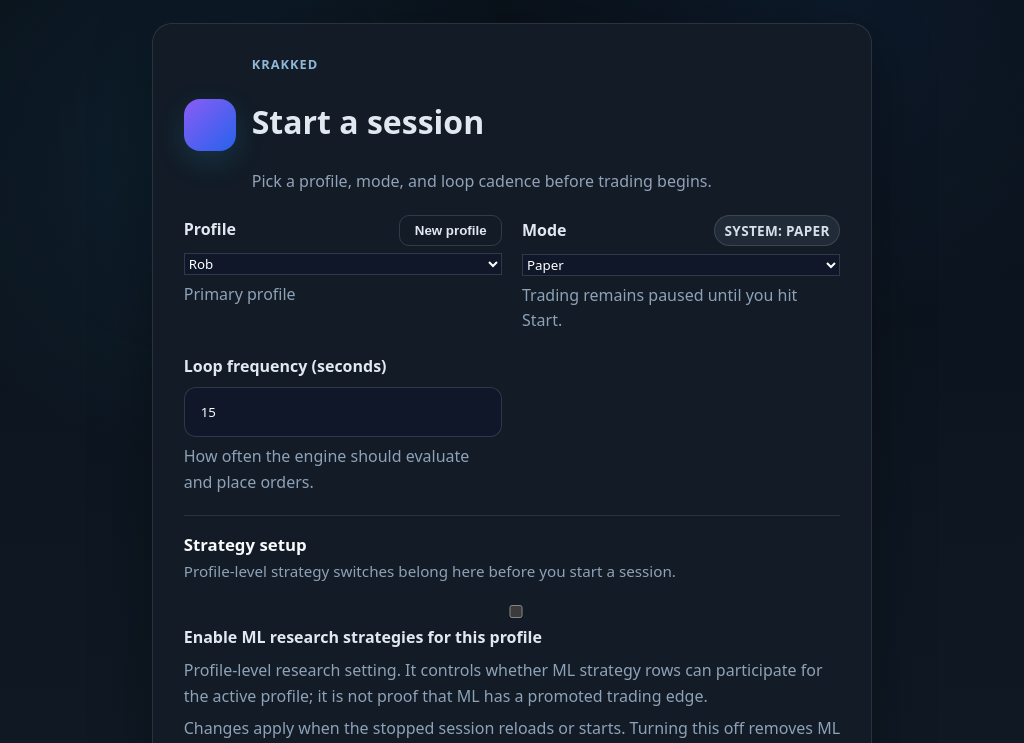
Scenario: cockpit operator paths › keeps live start disabled while readiness is unavailable
Check: the heading "Start a session" is shown, box [252,100,484,143]
Select "Live" in the dropdown labelled "Mode". click: (681, 264)
box: [522,254,840,276]
(page scrolled)
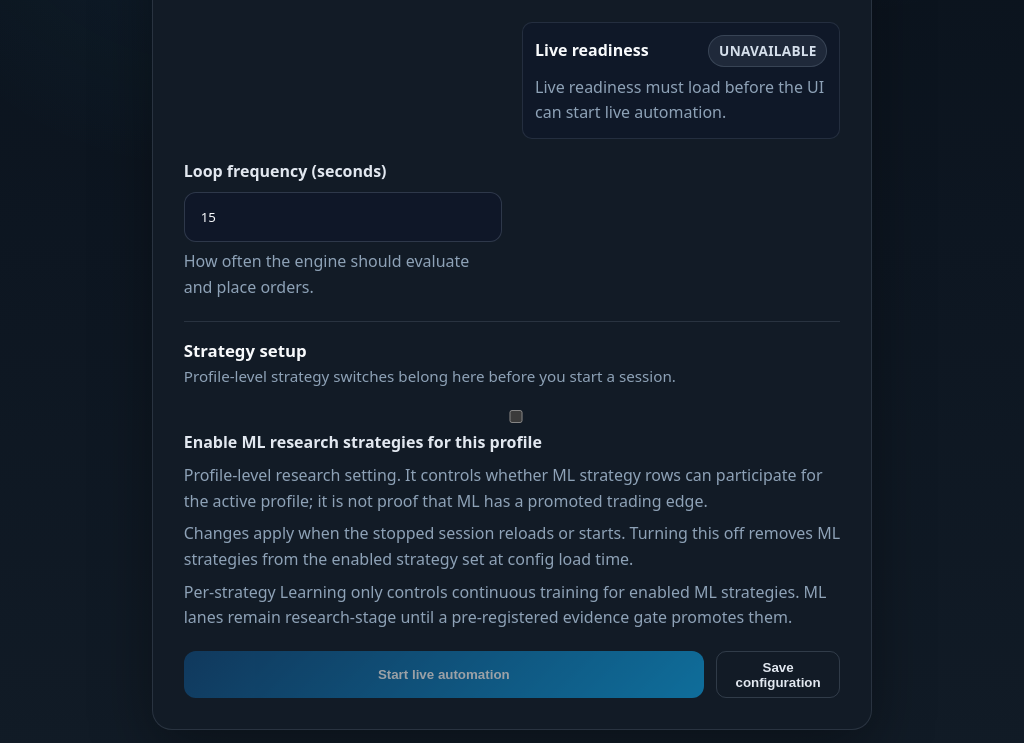
Check: the text "Live readiness" is shown, box [535,38,649,64]
Check: the text "Unavailable" is shown, box [708,35,827,67]
Check: the text "Live readiness must load before the UI can start live automation." is shown, box [535,75,827,126]
